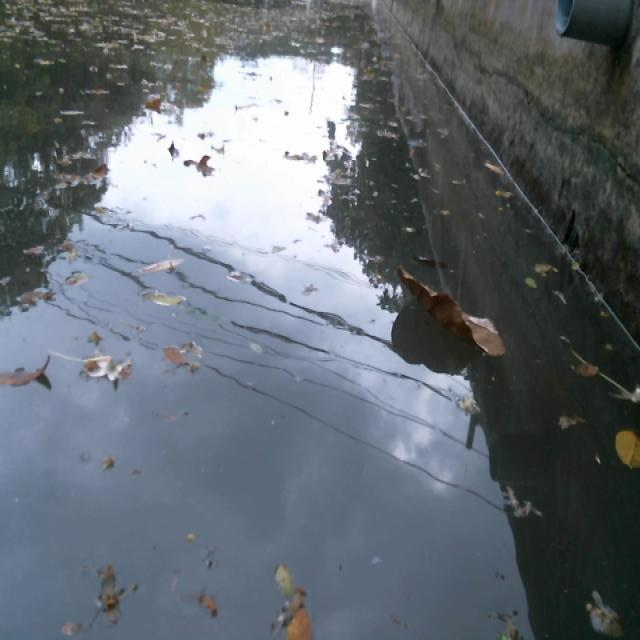Big-leaf: (394, 262, 508, 364)
Small-leaf: (0, 339, 54, 402), (81, 343, 135, 390), (155, 337, 214, 379), (176, 139, 222, 184), (132, 248, 187, 280), (586, 599, 628, 640), (93, 558, 122, 616), (137, 284, 189, 314), (280, 601, 318, 640), (612, 424, 640, 472), (272, 559, 299, 599), (452, 390, 488, 418), (55, 265, 93, 289), (195, 588, 224, 618), (554, 407, 587, 433), (477, 152, 509, 176), (86, 161, 112, 189), (574, 361, 603, 384), (495, 619, 526, 640), (526, 257, 558, 277), (494, 181, 518, 205), (142, 91, 164, 115), (20, 241, 48, 258), (518, 269, 539, 290), (245, 336, 266, 357), (162, 136, 178, 156)
